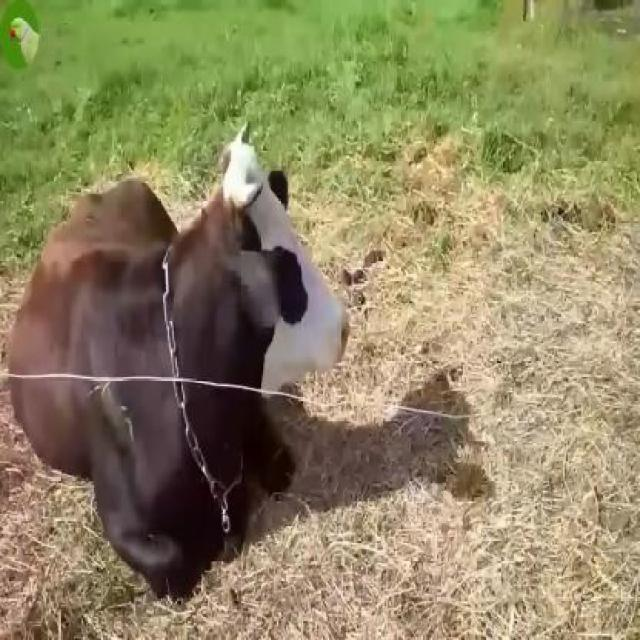Cow: (6, 124, 351, 590)
